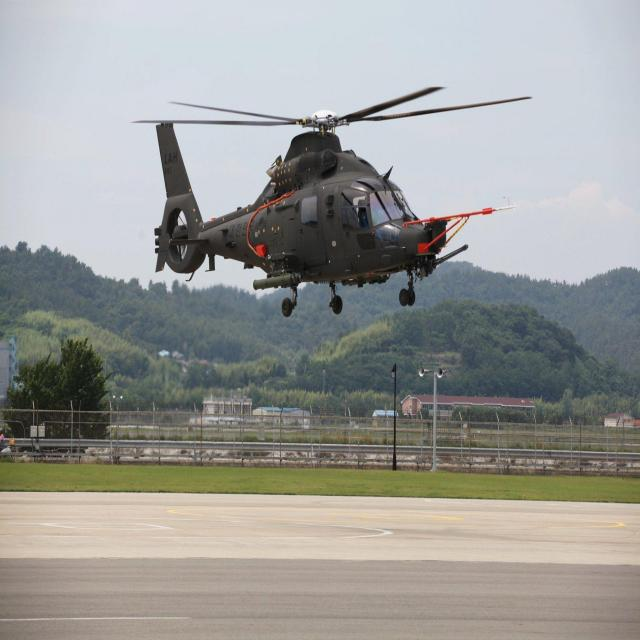MIL_HELO: (125, 73, 539, 329)
